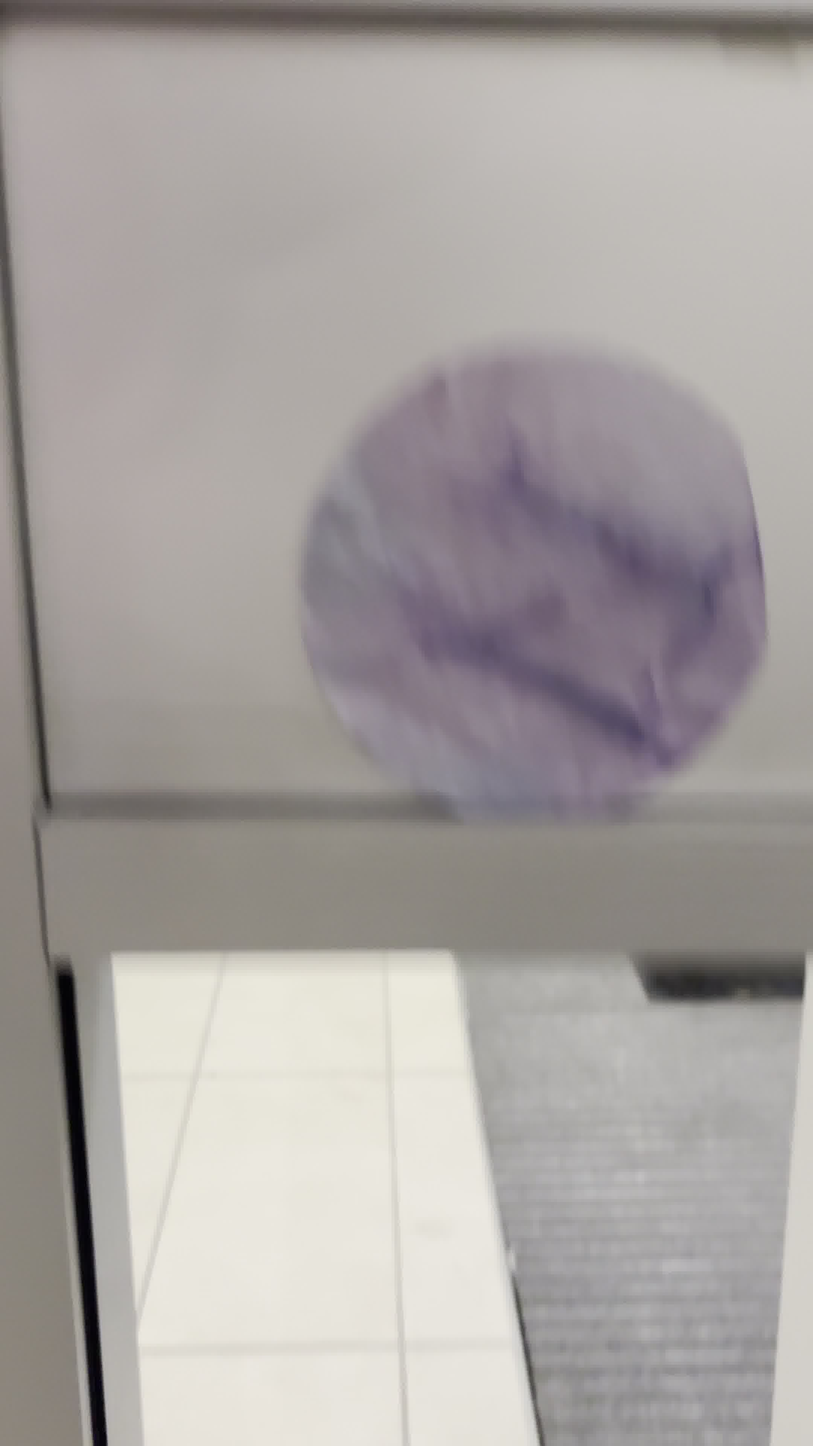Target: (277, 330, 782, 839)
